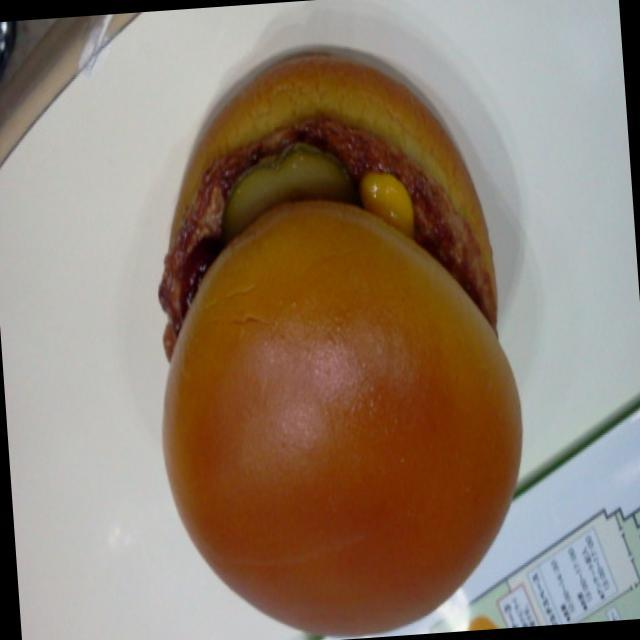Hamburger: (128, 26, 546, 640)
